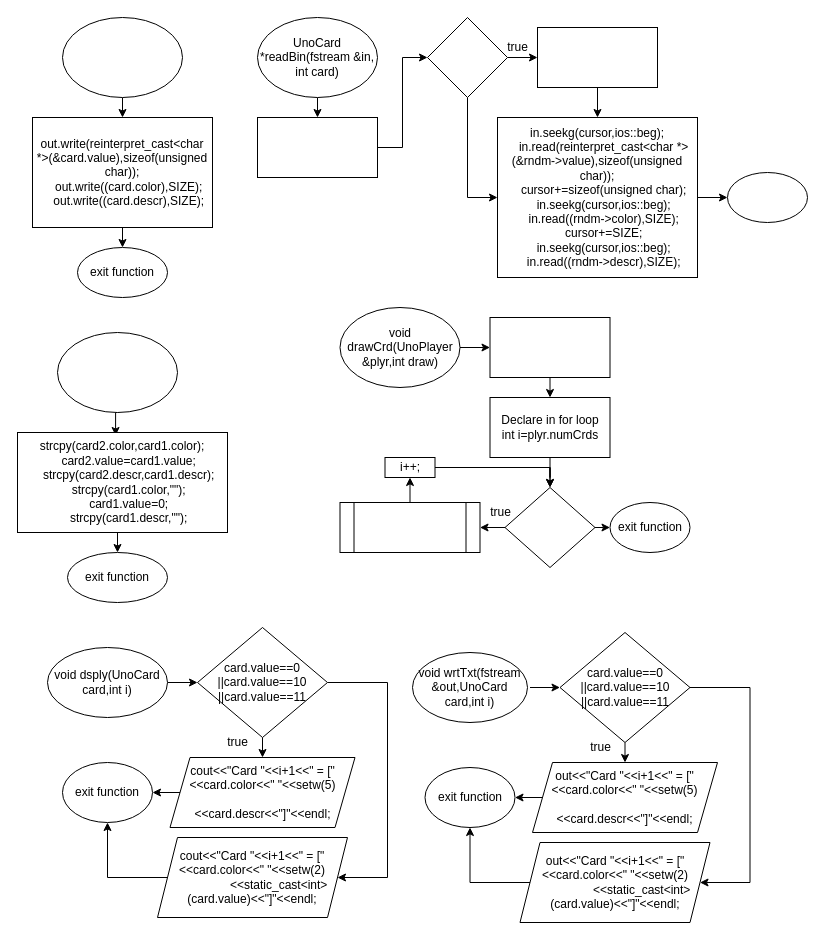
The diagram is 825 pixels wide and 940 high, and some of its shapes have lost their labels. Each missing label, with the box of its shape:
card !=0: (426, 16, 508, 98)
cursor=card*(sizeof(unsigned char)+SIZE+SIZE);: (536, 26, 658, 88)
Declare out of for loop plyr.numCrds+draw: (489, 316, 610, 378)
i< plyr.numCrds +draw: (504, 486, 595, 568)
plyr.deck[i]=setCrd(): (339, 502, 480, 552)
return rndm: (726, 172, 808, 222)
UnoCard *rndm=new UnoCard; long cursor=0L;: (256, 116, 378, 178)
void copyCrd(UnoCard &card1,UnoCard &card2): (56, 332, 178, 412)
void wrtBin(fstream &out,UnoCard card): (62, 16, 182, 98)
